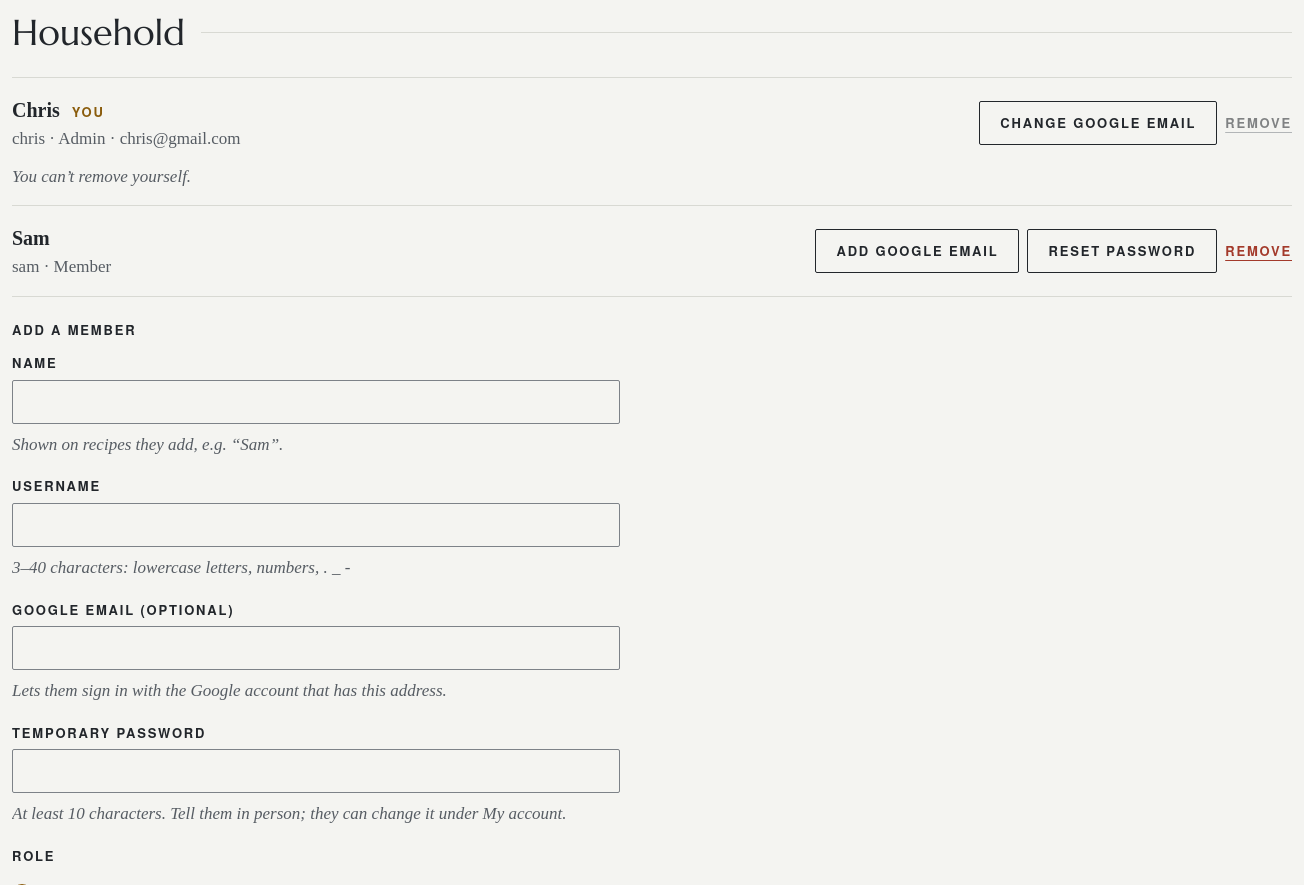
Test: HouseholdSection member email › saves an email, shows it and says so
Click the button with aria-label "Add Google email for Sam". click: {"x": 918, "y": 251}
box: [816,229,1020,273]
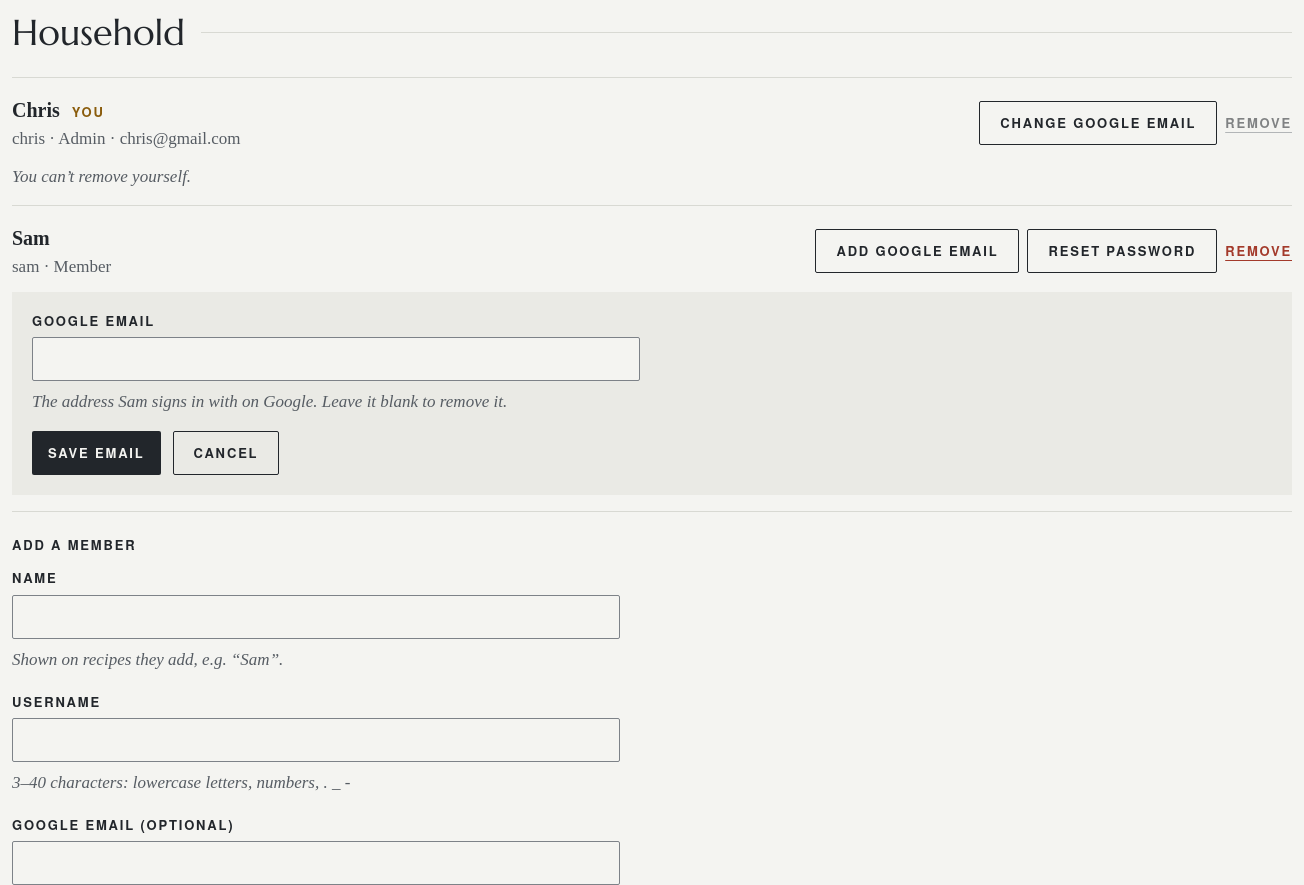
Type "  sam@gmail.com " into the field labelled "Google email". click: {"x": 336, "y": 359}
box: [32,337,640,381]
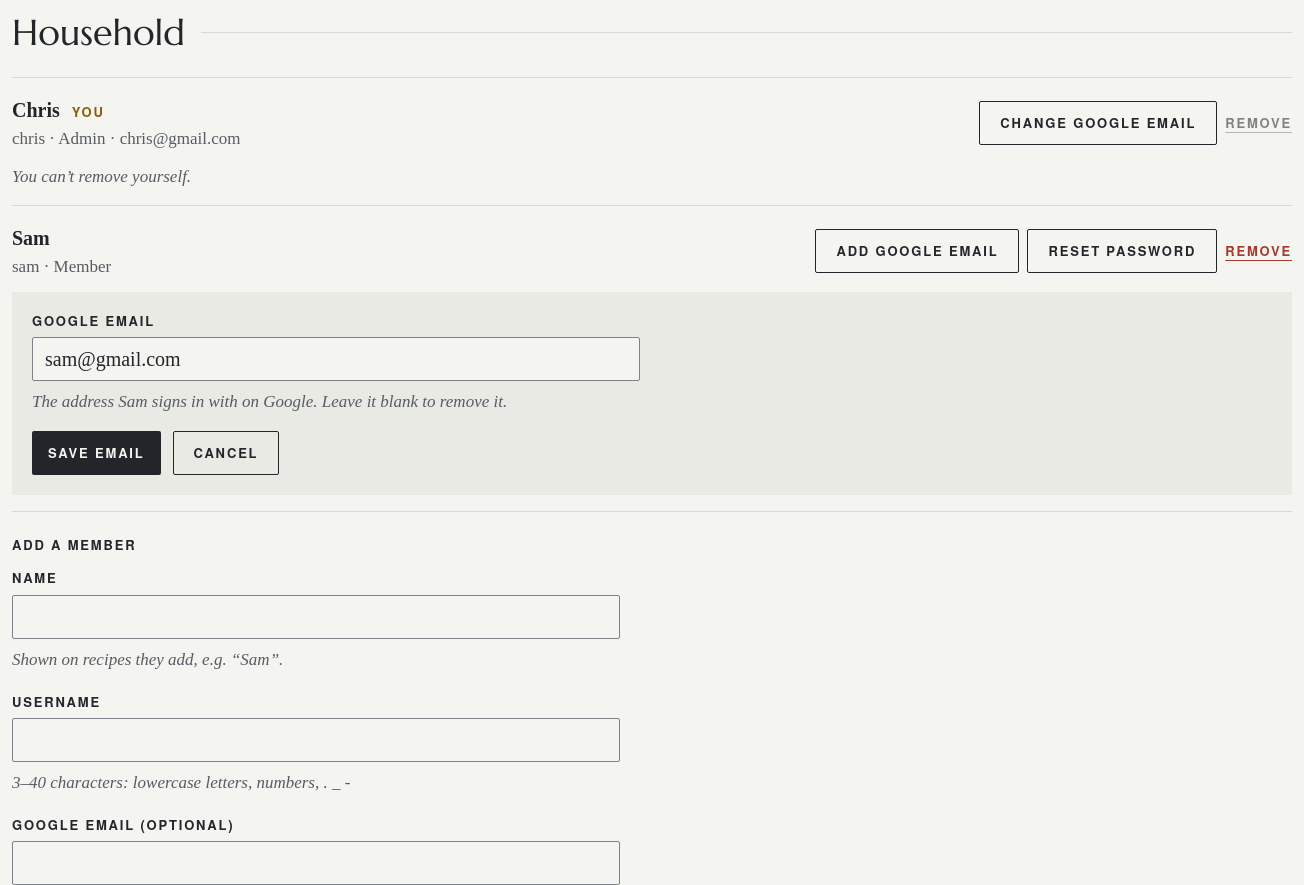
Submit the form named "Save email", box [32,312,640,475]
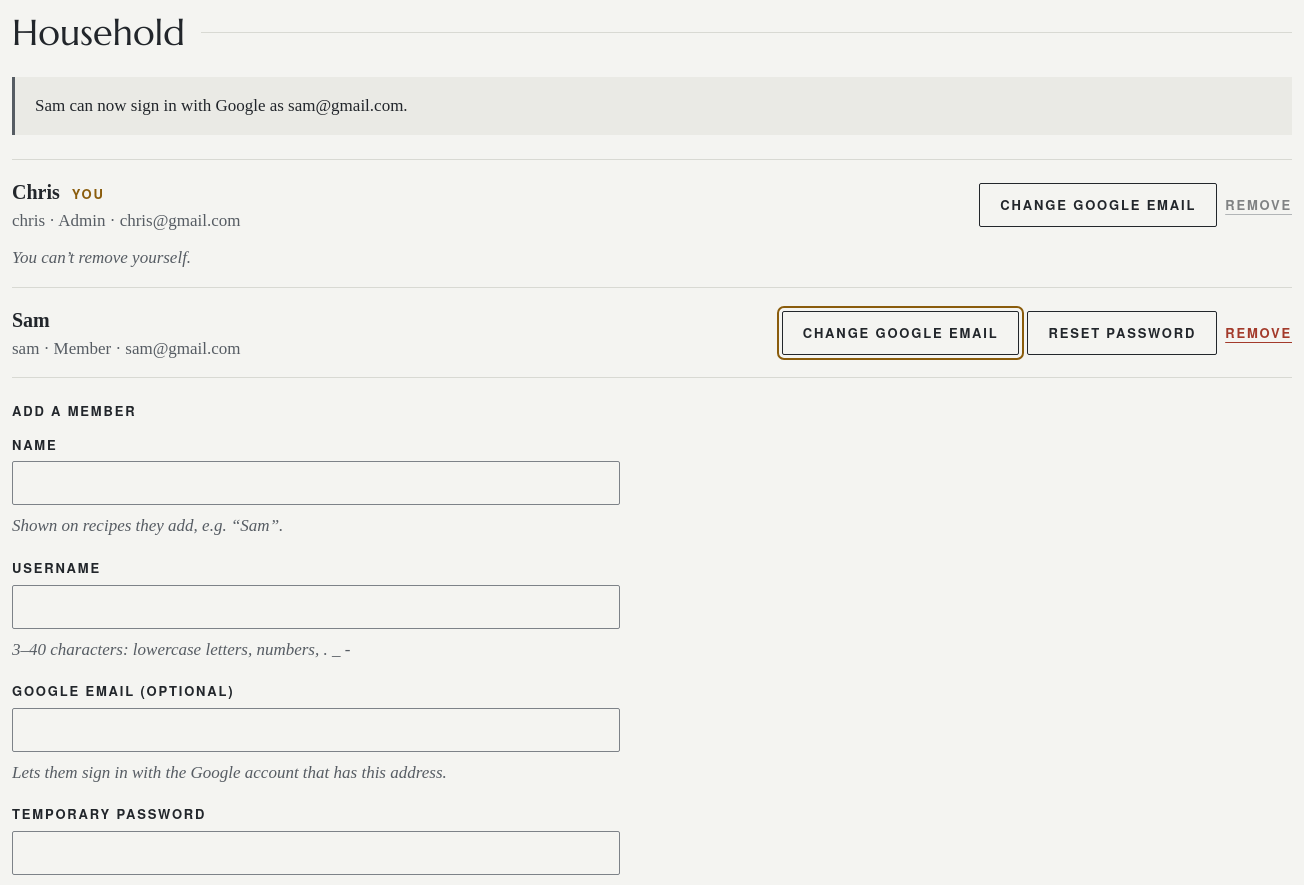
Expected: the list named "Household members" shows "sam · Member · sam@gmail.com", [12,339,241,358]
Expected: the message reads "Sam can now sign in with Google as sam@gmail.com.", [35,96,408,115]
